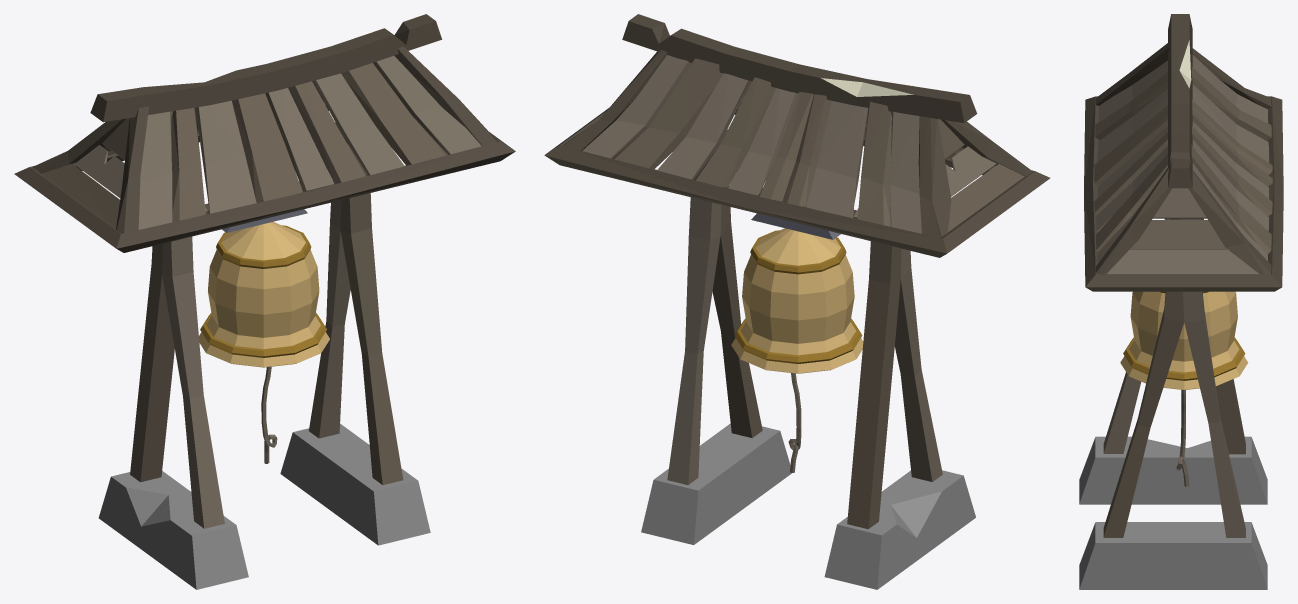
The model's file is _FIRE_BELL.fbx.
3 views of the same model, side by side, from view 1: azimuth 30°, elevation 25°; view 2: azimuth 150°, elevation 25°; view 3: azimuth 270°, elevation 25° (orthographic). The views are drawn at different scales.
Visible parts, largest first — view 1: FIRE_BELL; view 2: FIRE_BELL; view 3: FIRE_BELL.
Part boxes in pixels (<box>): FIRE_BELL: <box>14,14,515,589</box>; FIRE_BELL: <box>544,14,1050,589</box>; FIRE_BELL: <box>1079,14,1283,589</box>.
Size of the model in its own units: 276 by 306 by 127.
